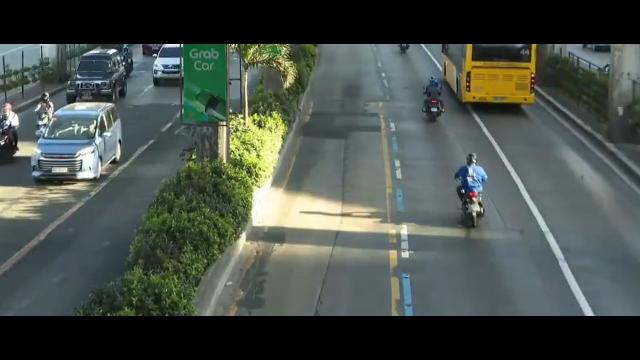bus: (442, 45, 540, 105)
car: (30, 95, 123, 188), (72, 48, 130, 103), (149, 44, 195, 85)
motorcycle: (454, 154, 489, 230), (0, 102, 21, 164), (32, 91, 56, 138), (422, 76, 444, 122)
